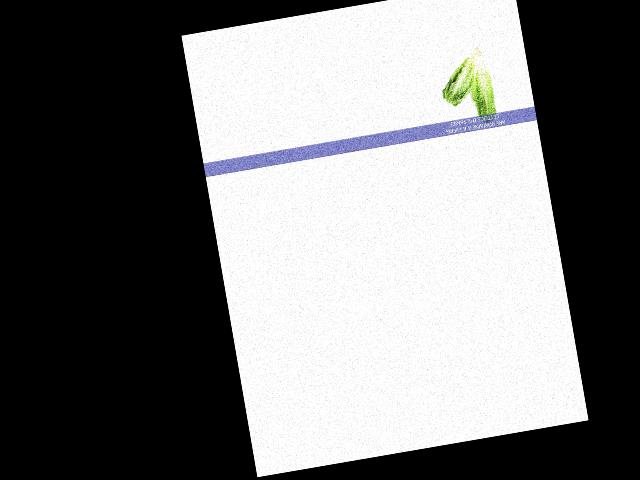lettuce: (436, 46, 493, 112)
